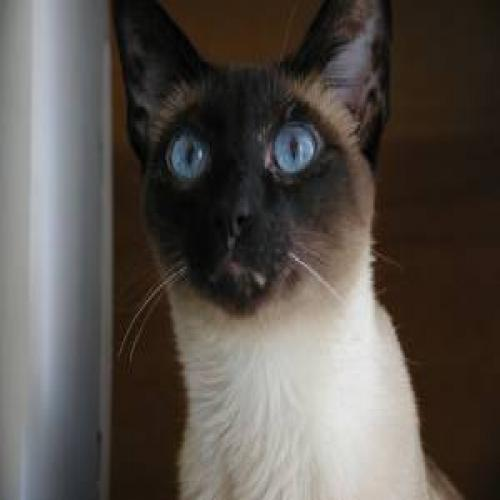siamese: (89, 1, 406, 348)
